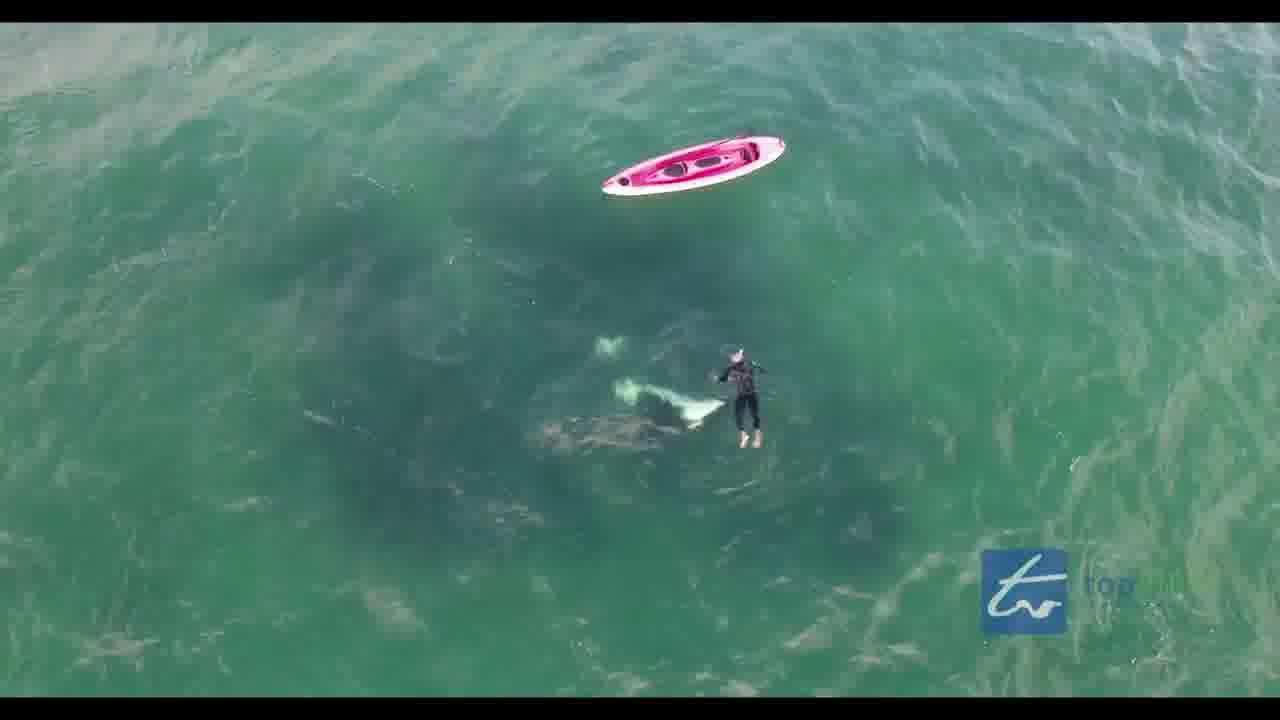swimmer: (718, 347, 767, 447)
